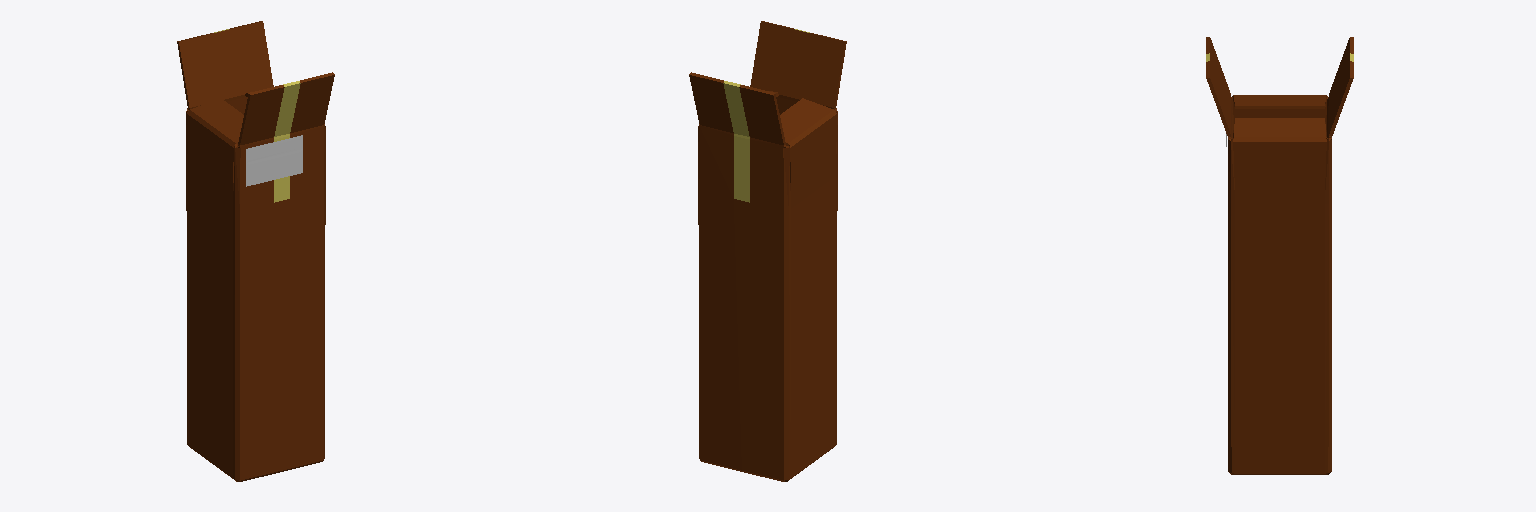
File: Cardboard.026.obj
3 renders of one model, left to right at view 1: azimuth 30°, elevation 25°; view 2: azimuth 150°, elevation 25°; view 3: azimuth 270°, elevation 25°, orthographic.
Visible parts, largest first — view 1: Cardboard.026_Cube.011, BlueSticker.011_Plane.006; view 2: Cardboard.026_Cube.011; view 3: Cardboard.026_Cube.011.
Part boxes in pixels (bbox=[...]): Cardboard.026_Cube.011: bbox=[177, 21, 334, 481]; BlueSticker.011_Plane.006: bbox=[246, 135, 302, 186]; Cardboard.026_Cube.011: bbox=[689, 21, 846, 481]; Cardboard.026_Cube.011: bbox=[1206, 37, 1353, 474].
Size of the model in its own units: 0.2773 by 1.15 by 0.3864.